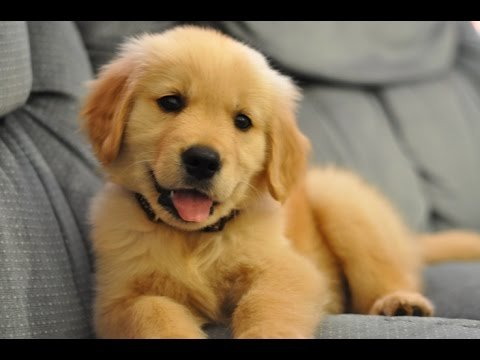dog: (72, 26, 480, 331)
